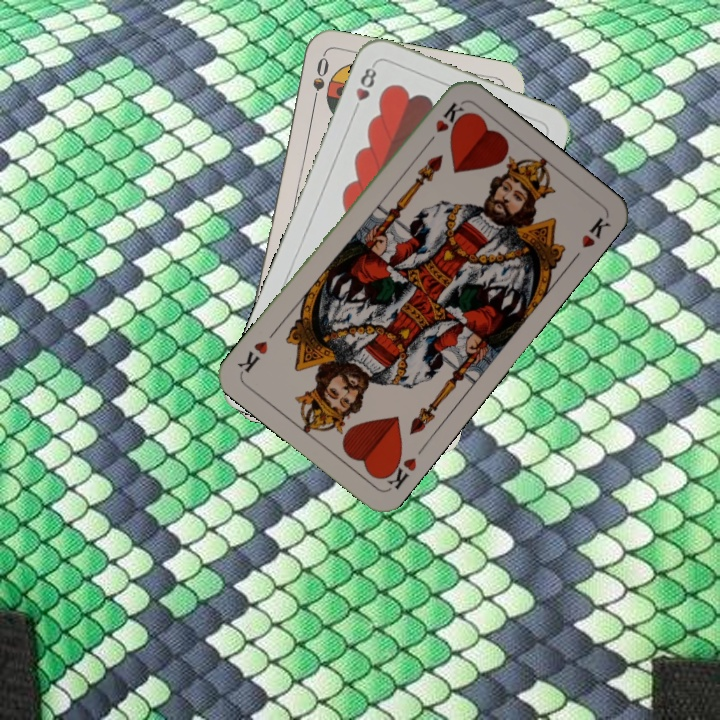H8: (349, 60, 380, 116)
HK: (421, 99, 466, 149), (377, 449, 420, 492)
SO: (308, 53, 332, 111)
